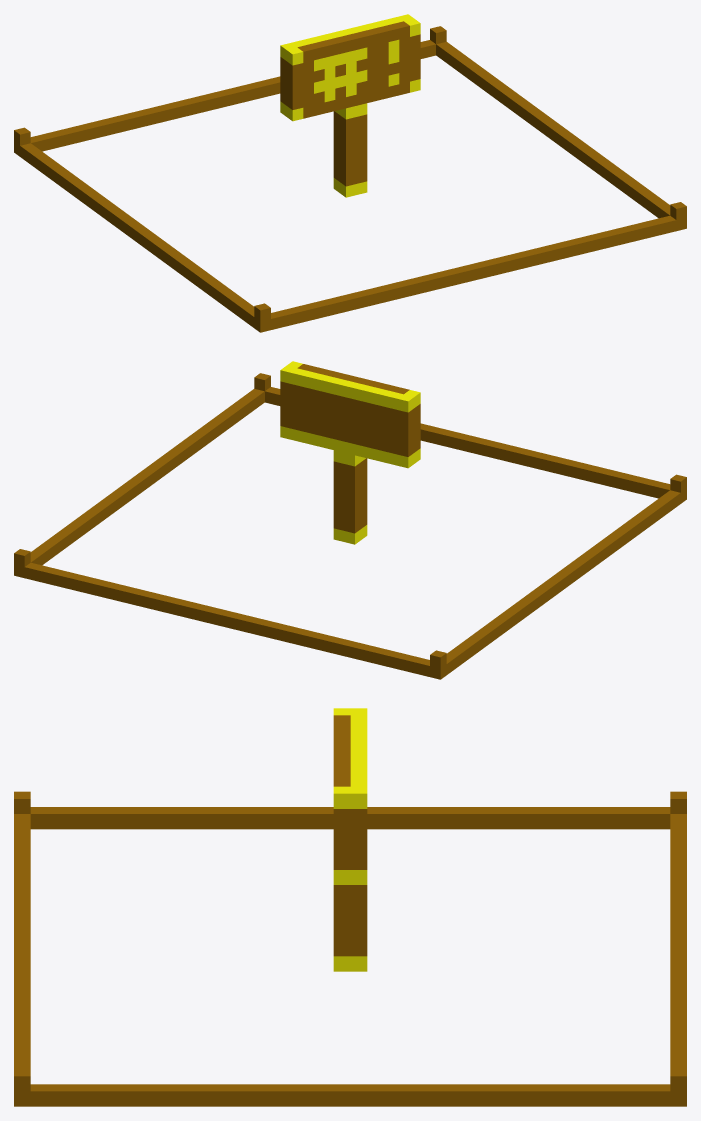
Rendered from town_center_0.gltf.
3 views of the same model, one above another, from view 1: azimuth 30°, elevation 25°; view 2: azimuth 150°, elevation 25°; view 3: azimuth 270°, elevation 25° (orthographic). The views are drawn at different scales.
Parts seen in each view (by area): view 1: Layer.1; view 2: Layer.1; view 3: Layer.1.
Boxes of the visible parts, x1=… form: Layer.1: x1=14, y1=14, x2=686, y2=332; Layer.1: x1=14, y1=361, x2=686, y2=679; Layer.1: x1=14, y1=708, x2=686, y2=1106.
Size of the model in its own units: 40 by 14 by 40.
1 material, 1 textured.
